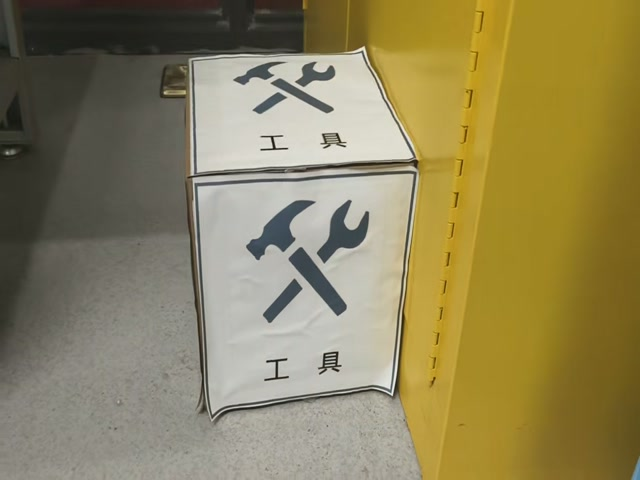Cube_tool: (183, 47, 419, 177)
